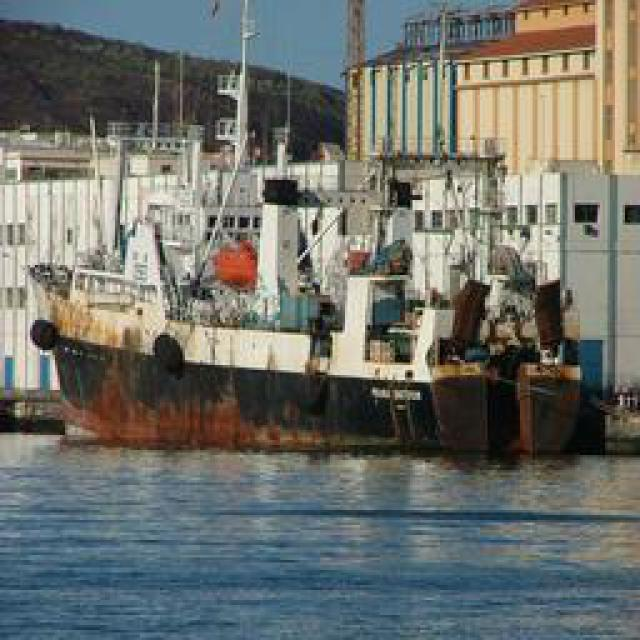Ship: (27, 45, 540, 450)
